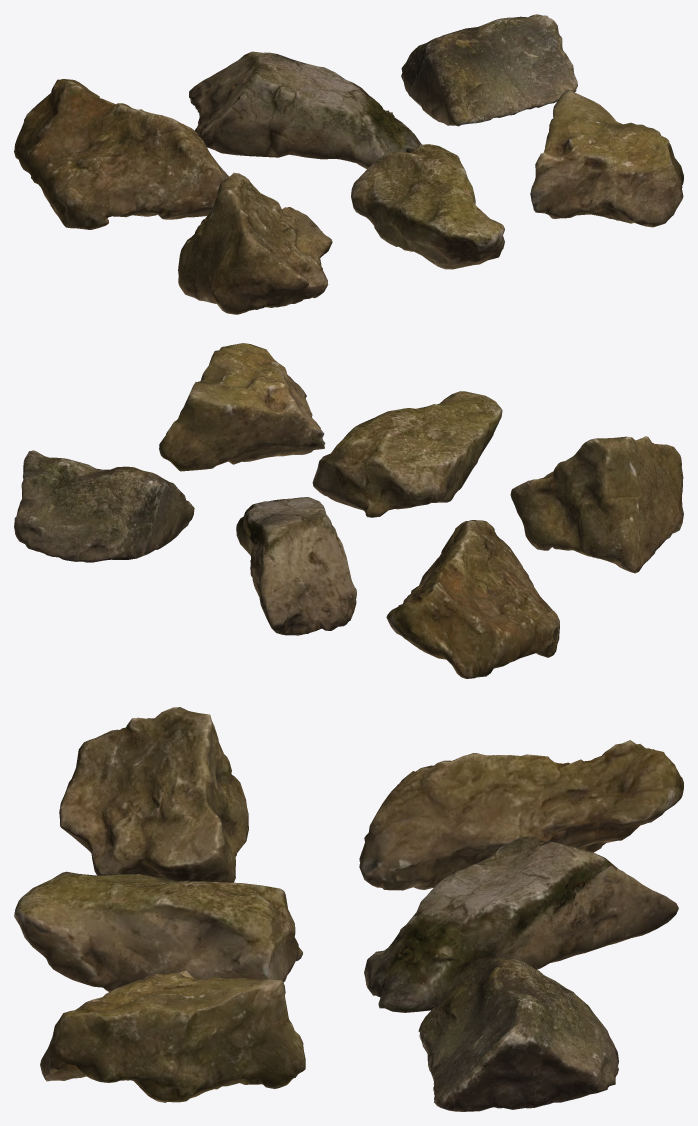
File: rock_moss_set_01.glb
3 renders of one model, top to bottom at view 1: azimuth 30°, elevation 25°; view 2: azimuth 150°, elevation 25°; view 3: azimuth 270°, elevation 25°, orthographic. The views are drawn at different scales.
Visible parts, largest first — view 1: rock_moss_set_01_rock01, rock_moss_set_01_rock02, rock_moss_set_01_rock06, rock_moss_set_01_rock04, rock_moss_set_01_rock03, rock_moss_set_01_rock05; view 2: rock_moss_set_01_rock04, rock_moss_set_01_rock01, rock_moss_set_01_rock05, rock_moss_set_01_rock03, rock_moss_set_01_rock06, rock_moss_set_01_rock02; view 3: rock_moss_set_01_rock01, rock_moss_set_01_rock02, rock_moss_set_01_rock05, rock_moss_set_01_rock04, rock_moss_set_01_rock06, rock_moss_set_01_rock03.
Part boxes in pixels (left/top/right/bottom): rock_moss_set_01_rock01: left=14, top=79, right=229, bottom=229; rock_moss_set_01_rock02: left=189, top=51, right=421, bottom=168; rock_moss_set_01_rock06: left=530, top=89, right=683, bottom=227; rock_moss_set_01_rock04: left=178, top=172, right=332, bottom=314; rock_moss_set_01_rock03: left=401, top=14, right=577, bottom=126; rock_moss_set_01_rock05: left=351, top=144, right=504, bottom=269; rock_moss_set_01_rock04: left=510, top=436, right=683, bottom=573; rock_moss_set_01_rock01: left=386, top=520, right=559, bottom=678; rock_moss_set_01_rock05: left=312, top=391, right=502, bottom=517; rock_moss_set_01_rock03: left=14, top=450, right=194, bottom=562; rock_moss_set_01_rock06: left=159, top=343, right=325, bottom=471; rock_moss_set_01_rock02: left=236, top=497, right=356, bottom=635; rock_moss_set_01_rock01: left=359, top=740, right=683, bottom=890; rock_moss_set_01_rock02: left=364, top=836, right=678, bottom=1012; rock_moss_set_01_rock05: left=14, top=871, right=302, bottom=991; rock_moss_set_01_rock04: left=59, top=707, right=248, bottom=882; rock_moss_set_01_rock06: left=40, top=970, right=305, bottom=1102; rock_moss_set_01_rock03: left=418, top=956, right=618, bottom=1111.
Size of the model in its own units: 8 by 1.77 by 6.94.
Materials: 1 (1 with a texture image).
